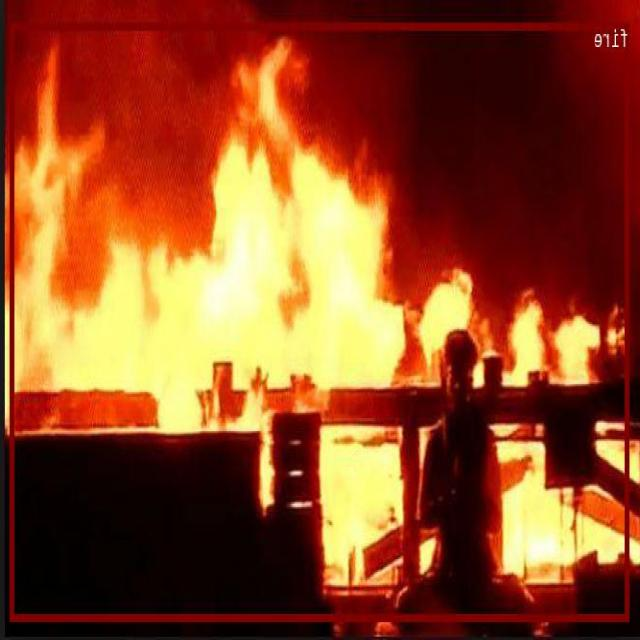fire: (11, 22, 630, 620)
